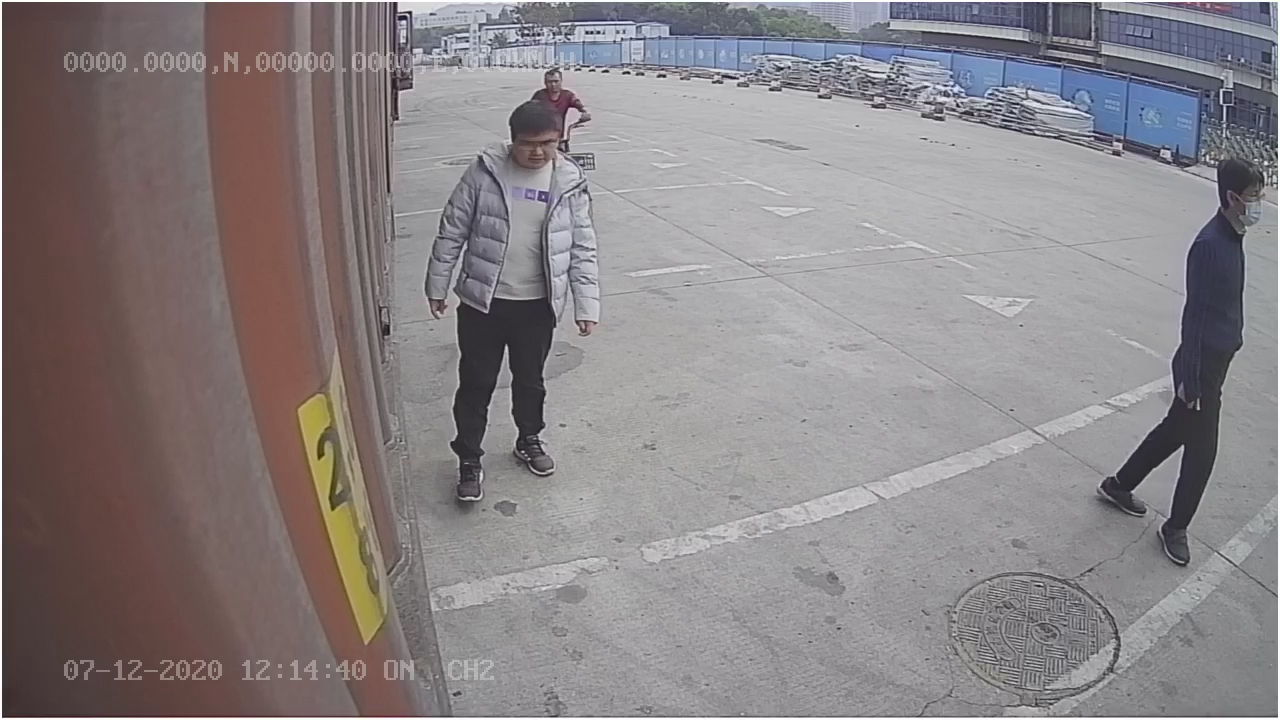person: (1090, 134, 1269, 566)
